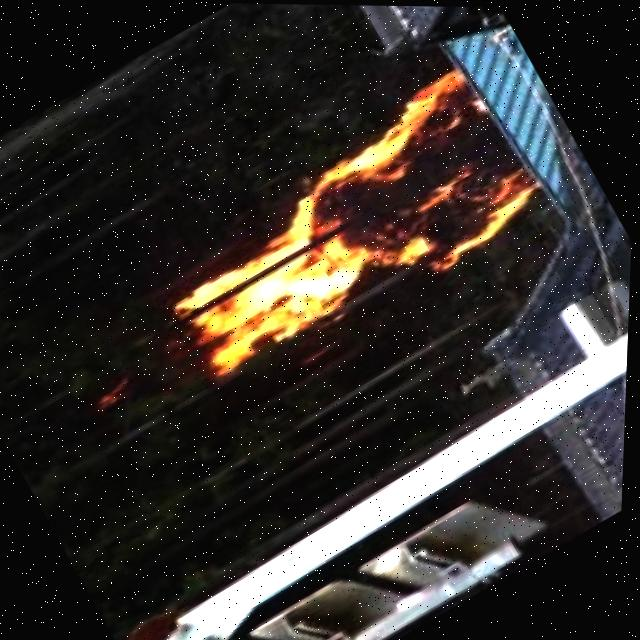Smoke: (129, 54, 566, 417)
